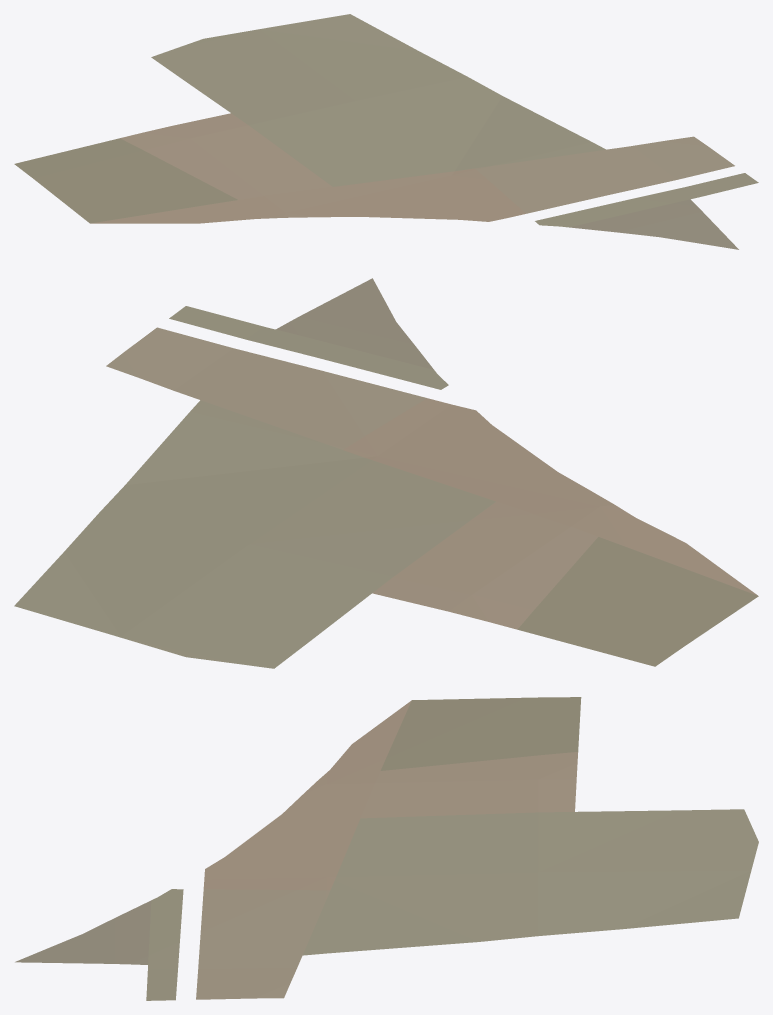
The model's file is farm_7_12_soil.glb.
3 views of the same model, one above another, from view 1: azimuth 30°, elevation 25°; view 2: azimuth 150°, elevation 25°; view 3: azimuth 270°, elevation 25° (orthographic). The views are drawn at different scales.
Parts seen in each view (by area): view 1: geometry_0; view 2: geometry_0; view 3: geometry_0.
Part boxes in pixels (box(x1,y1,x2,y2)): geometry_0: box(14, 14, 758, 249); geometry_0: box(14, 278, 758, 668); geometry_0: box(15, 697, 758, 1000).
Size of the model in its own units: 264 by 6.25 by 282.
